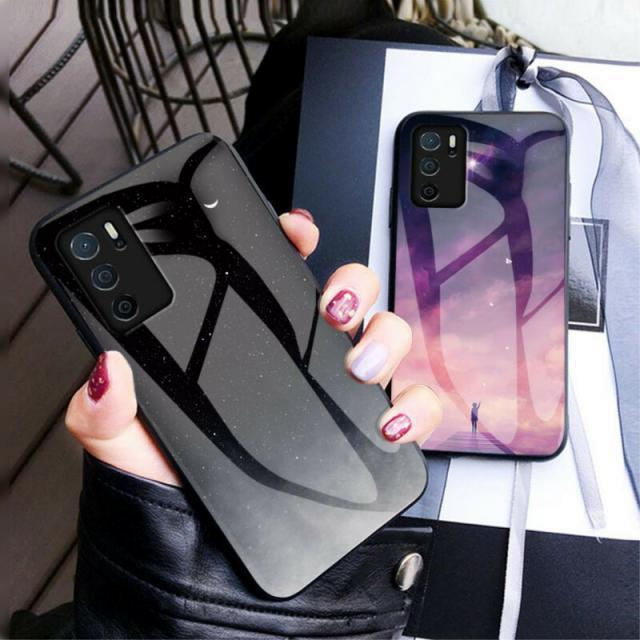lens_back: (86, 256, 120, 296), (106, 286, 144, 321), (418, 126, 454, 159), (63, 232, 101, 262), (413, 153, 448, 180), (415, 184, 446, 207)
phone: (33, 130, 429, 595), (395, 103, 570, 461)
